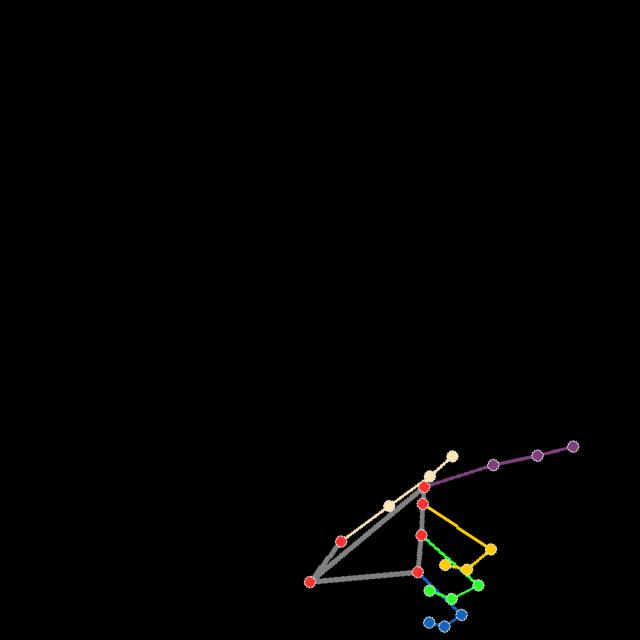gun: (292, 433, 582, 640)
